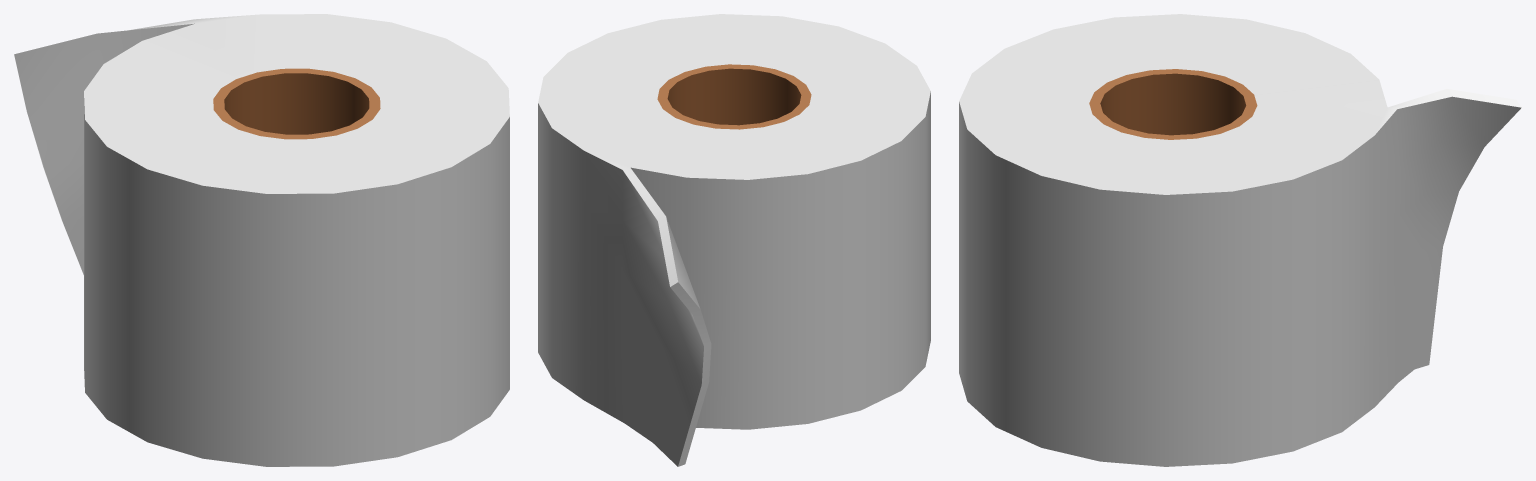
Rendered from ToiletPaperA.fbx.
3 renders of one model, left to right at view 1: azimuth 30°, elevation 25°; view 2: azimuth 150°, elevation 25°; view 3: azimuth 270°, elevation 25°, orthographic. The views are drawn at different scales.
Visible parts, largest first — view 1: ToiletPaperA; view 2: ToiletPaperA; view 3: ToiletPaperA.
Boxes of the visible parts, x1,y1,x2,y2 form: ToiletPaperA: (14,14,509,466); ToiletPaperA: (538,14,930,466); ToiletPaperA: (959,14,1521,466).
Size of the model in its own units: 99.94 by 75.42 by 131.
